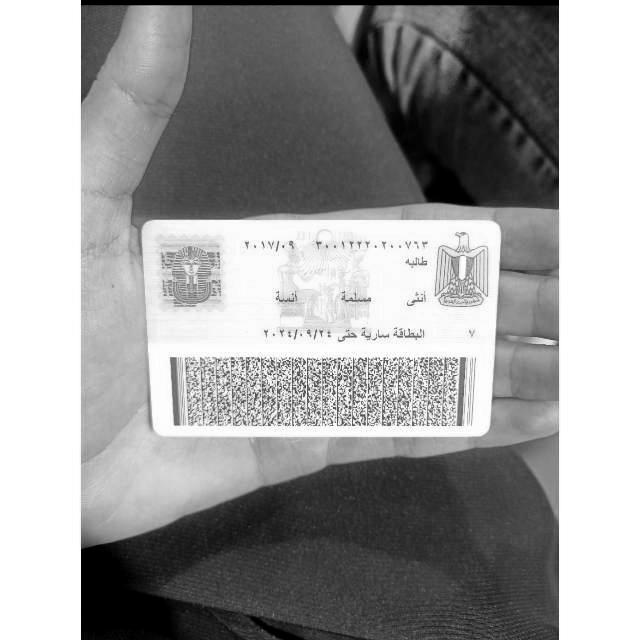back: (143, 219, 500, 437)
